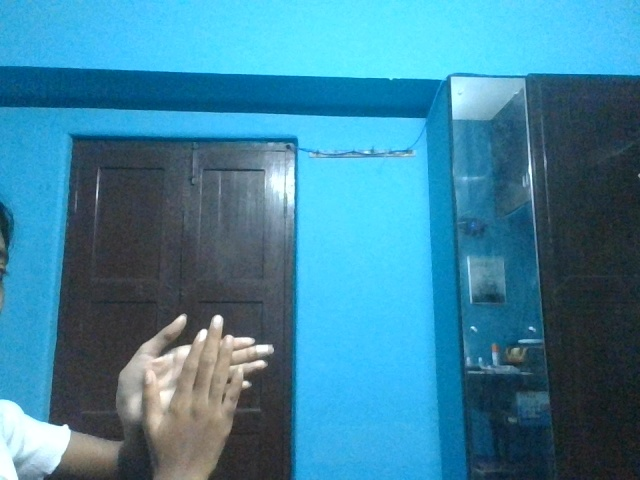H: (115, 308, 274, 459)
